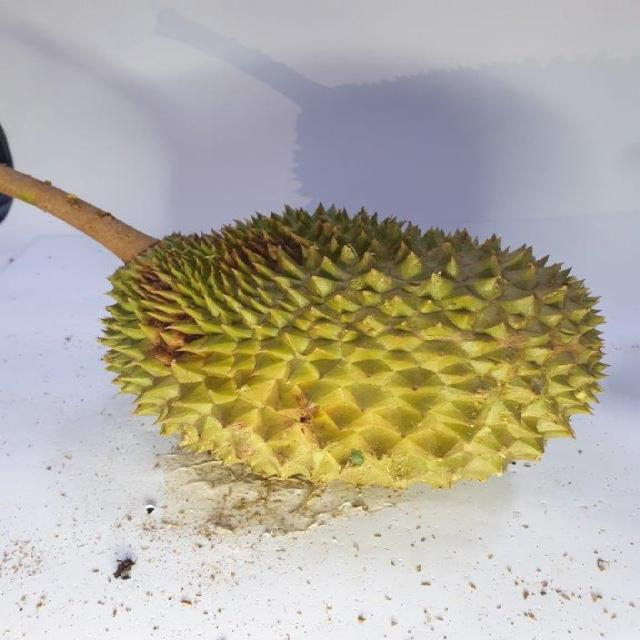defective: (101, 200, 611, 487)
